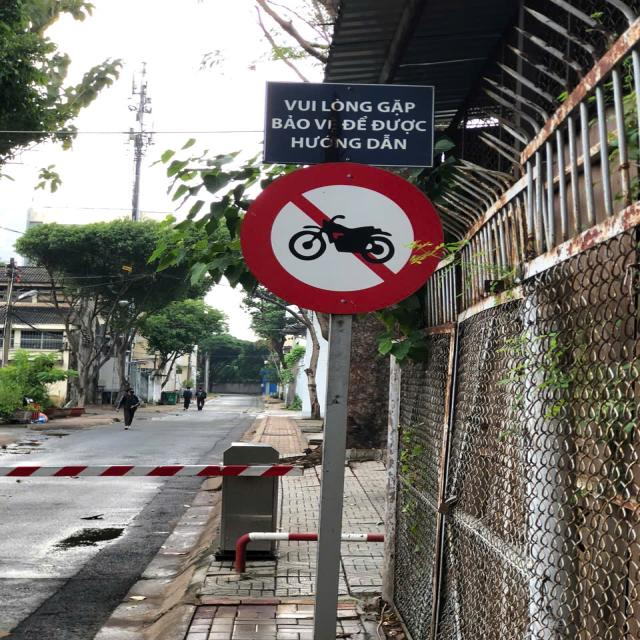Bien bao cam xe may: (228, 162, 452, 317)
